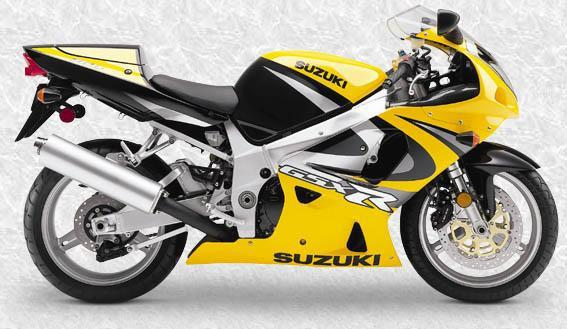motorcycle: (14, 1, 567, 313)
